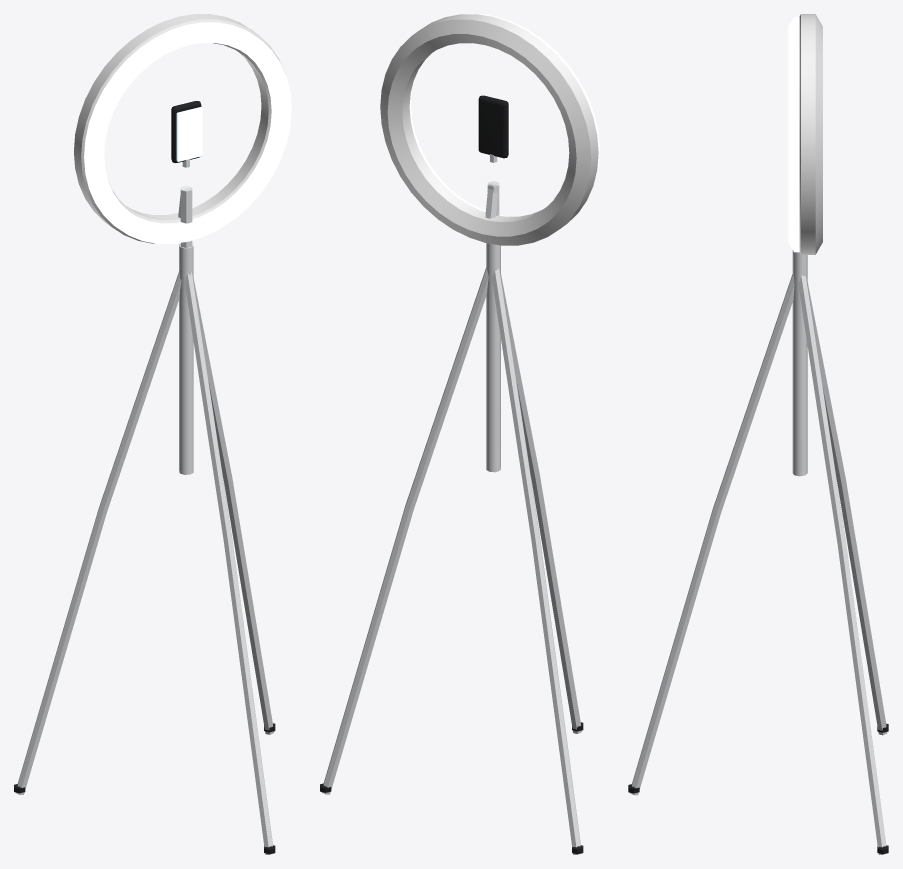
The model's file is ring_light_stand.glb.
3 views of the same model, side by side, from view 1: azimuth 30°, elevation 25°; view 2: azimuth 150°, elevation 25°; view 3: azimuth 270°, elevation 25° (orthographic).
Parts seen in each view (by area): view 1: ring_light_stand; view 2: ring_light_stand; view 3: ring_light_stand.
Part boxes in pixels (left/top/right/bottom): ring_light_stand: left=14, top=14, right=291, bottom=854; ring_light_stand: left=320, top=14, right=599, bottom=854; ring_light_stand: left=628, top=14, right=888, bottom=854.
Size of the model in its own units: 0.724 by 2.04 by 0.627.
